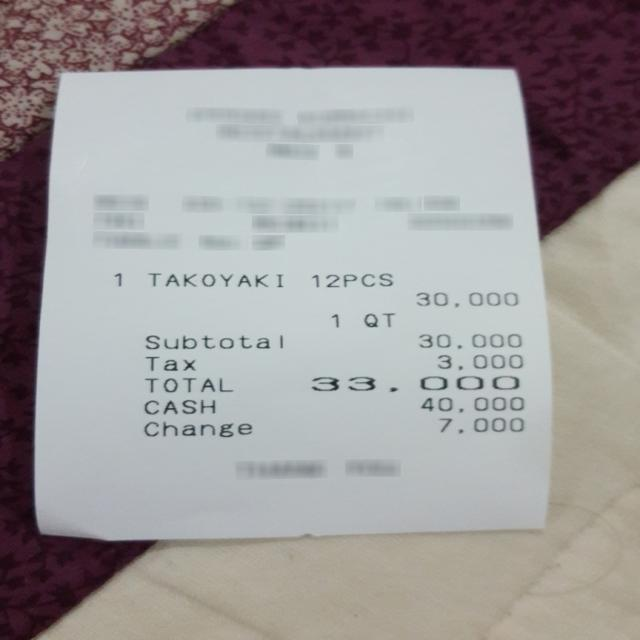kertas: (36, 69, 551, 540)
